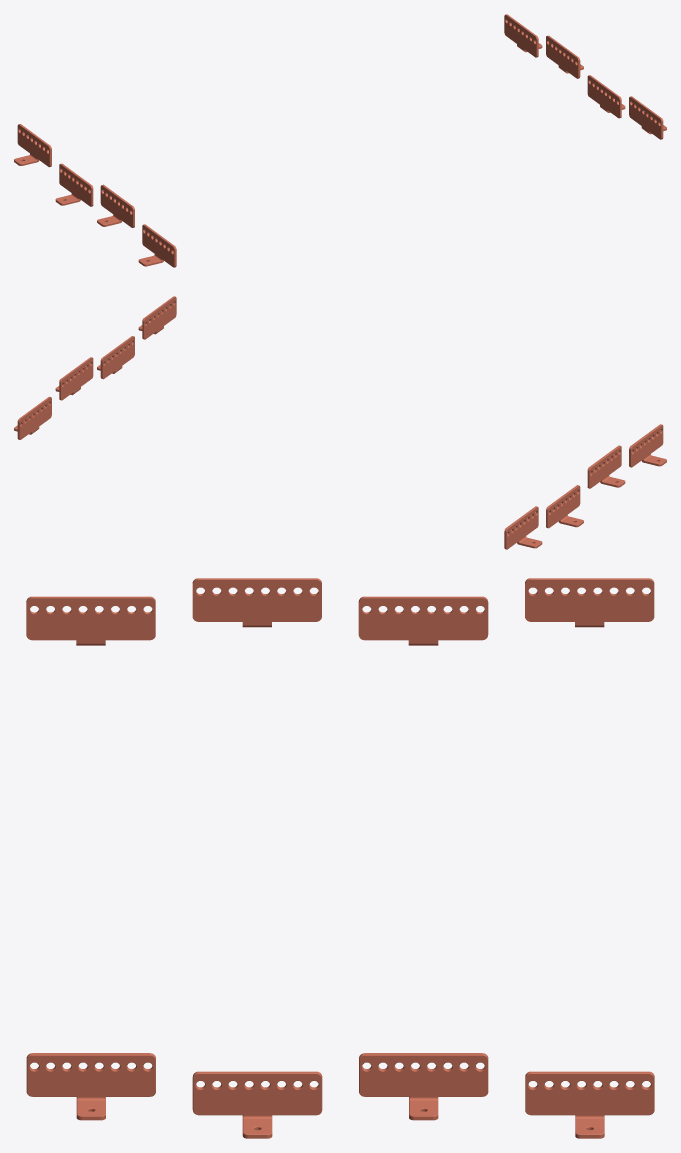
The model's file is BATTERY CRATE STACK V2__BATTERY CRATE L1__BATTERY MODULE V2 CLAMPS__BUSBAR V2 ASM__BUSBAR V2 SINGLE.glb.
The picture shows the model from 3 angles, top to bottom: view 1: azimuth 30°, elevation 25°; view 2: azimuth 150°, elevation 25°; view 3: azimuth 270°, elevation 25°; orthographic projection. The views are drawn at different scales.
Visible parts, largest first — view 1: BUSBAR V2 SINGLE 1, BUSBAR V2 SINGLE 5, BUSBAR V2 SINGLE 4, BUSBAR V2 SINGLE 8, BUSBAR V2 SINGLE 7, BUSBAR V2 SINGLE 3, BUSBAR V2 SINGLE 2, BUSBAR V2 SINGLE 6; view 2: BUSBAR V2 SINGLE 4, BUSBAR V2 SINGLE 5, BUSBAR V2 SINGLE 8, BUSBAR V2 SINGLE 1, BUSBAR V2 SINGLE 6, BUSBAR V2 SINGLE 2, BUSBAR V2 SINGLE 7, BUSBAR V2 SINGLE 3; view 3: BUSBAR V2 SINGLE 3, BUSBAR V2 SINGLE 7, BUSBAR V2 SINGLE 2, BUSBAR V2 SINGLE 6, BUSBAR V2 SINGLE 5, BUSBAR V2 SINGLE 1, BUSBAR V2 SINGLE 4, BUSBAR V2 SINGLE 8.
Boxes of the visible parts, box(x1,y1,x2,y2) form: BUSBAR V2 SINGLE 1: box(138, 224, 176, 267); BUSBAR V2 SINGLE 5: box(55, 163, 93, 206); BUSBAR V2 SINGLE 4: box(97, 184, 134, 227); BUSBAR V2 SINGLE 8: box(14, 124, 51, 167); BUSBAR V2 SINGLE 7: box(504, 14, 542, 57); BUSBAR V2 SINGLE 3: box(587, 75, 625, 118); BUSBAR V2 SINGLE 2: box(629, 96, 666, 139); BUSBAR V2 SINGLE 6: box(546, 35, 583, 78); BUSBAR V2 SINGLE 4: box(587, 445, 625, 488); BUSBAR V2 SINGLE 5: box(546, 485, 583, 528); BUSBAR V2 SINGLE 8: box(504, 506, 542, 549); BUSBAR V2 SINGLE 1: box(629, 424, 666, 467); BUSBAR V2 SINGLE 6: box(55, 357, 93, 400); BUSBAR V2 SINGLE 2: box(138, 296, 176, 339); BUSBAR V2 SINGLE 7: box(14, 396, 51, 439); BUSBAR V2 SINGLE 3: box(97, 336, 134, 379); BUSBAR V2 SINGLE 3: box(192, 1071, 322, 1138); BUSBAR V2 SINGLE 7: box(525, 1071, 654, 1138); BUSBAR V2 SINGLE 2: box(26, 1053, 155, 1120); BUSBAR V2 SINGLE 6: box(359, 1053, 488, 1120); BUSBAR V2 SINGLE 5: box(358, 596, 488, 645); BUSBAR V2 SINGLE 1: box(26, 596, 155, 645); BUSBAR V2 SINGLE 4: box(192, 578, 321, 627); BUSBAR V2 SINGLE 8: box(525, 578, 654, 627).
Bounding box in the file's own units: 1.04 × 0.0639 × 0.5425.
